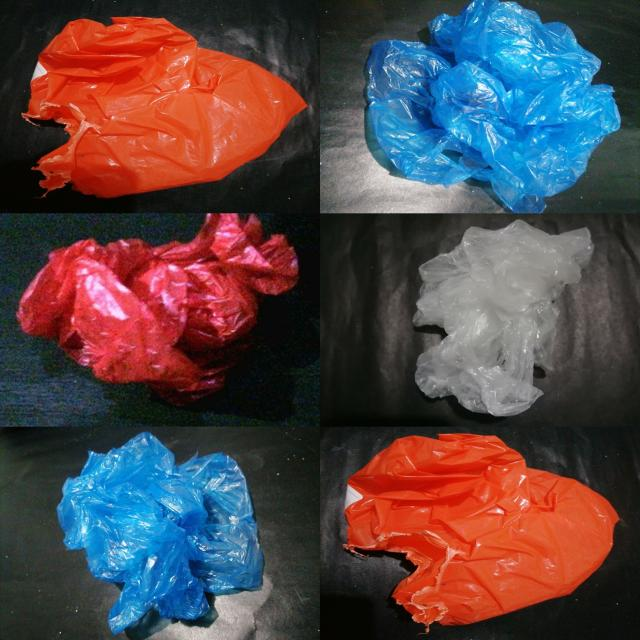Single-layer Plastic: (16, 214, 299, 405), (367, 0, 620, 212), (345, 434, 618, 626), (24, 18, 305, 198), (58, 432, 263, 633), (413, 220, 593, 416)
